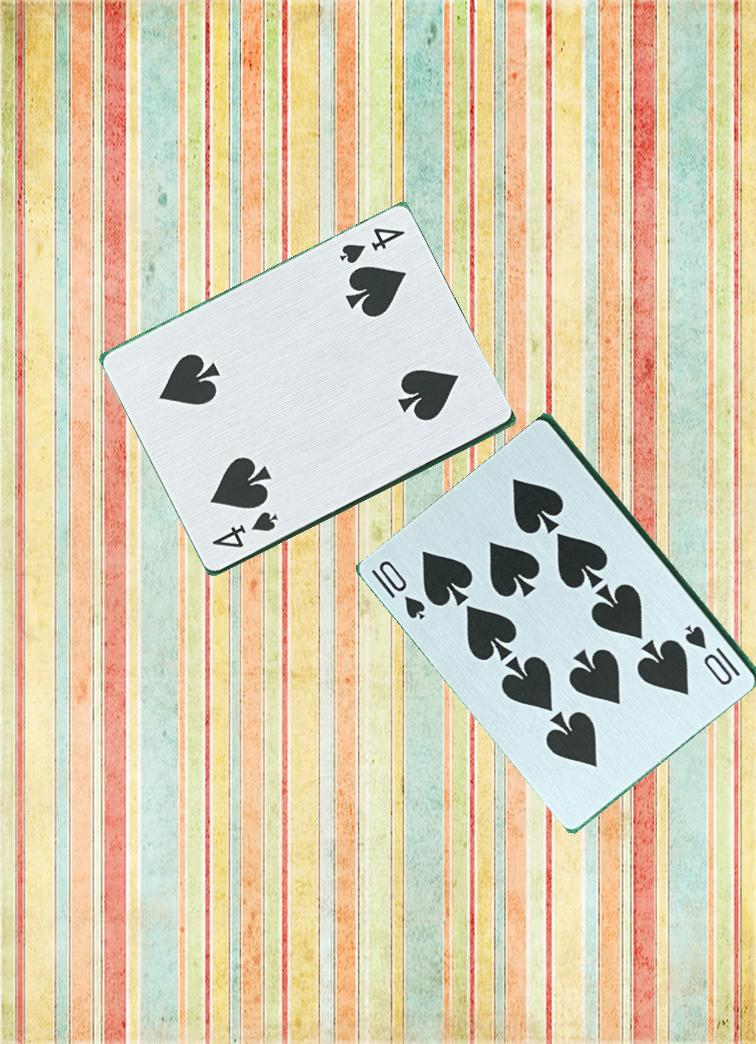4s: (336, 223, 407, 275), (208, 509, 281, 552)
ts: (681, 621, 744, 688), (368, 556, 429, 623)
